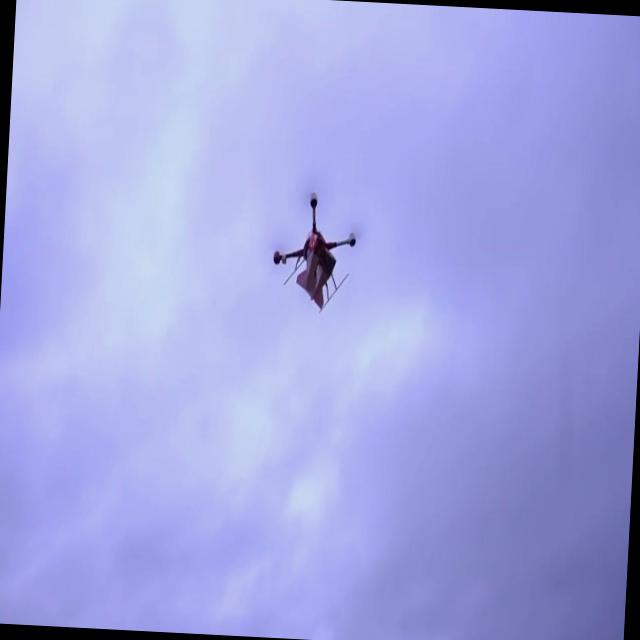drone: (268, 187, 360, 318)
